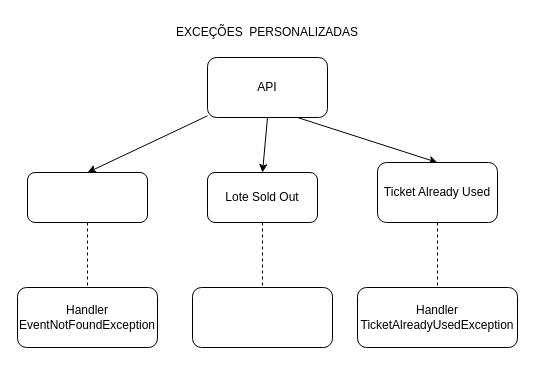
This 535x365 diagram has some shape labels left out. The shapes that lost their labels are listed below. From the top down, each one's centre as x and y in pixels, then its label:
the point at 87,197: Event Not Found
the point at 262,317: Handler LoteSoldOutException
